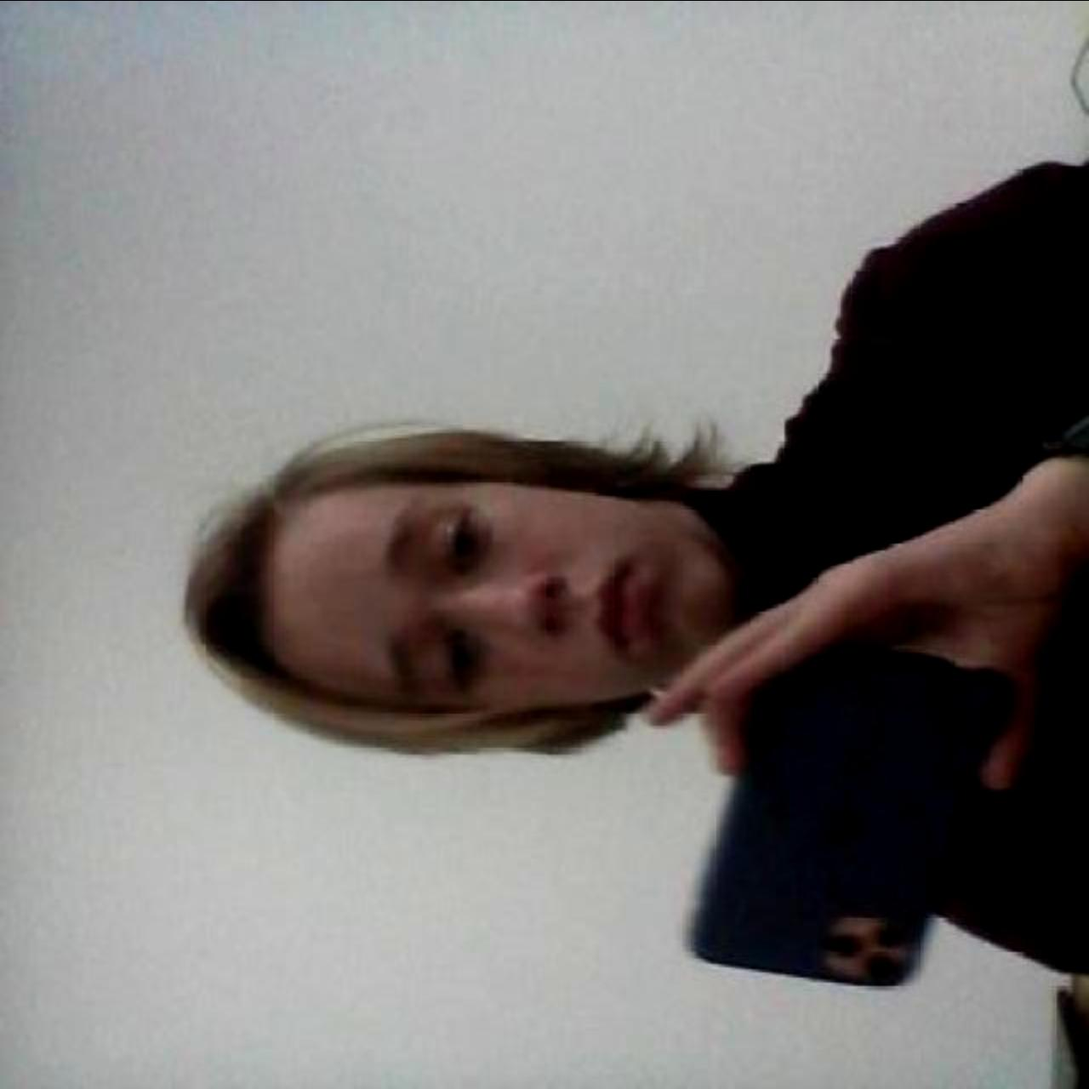phone: (666, 607, 1012, 1008)
